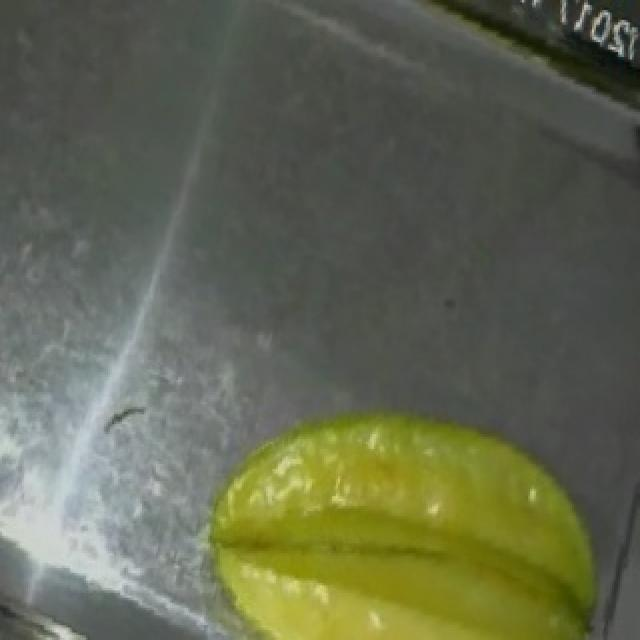fruit: (168, 367, 594, 640)
